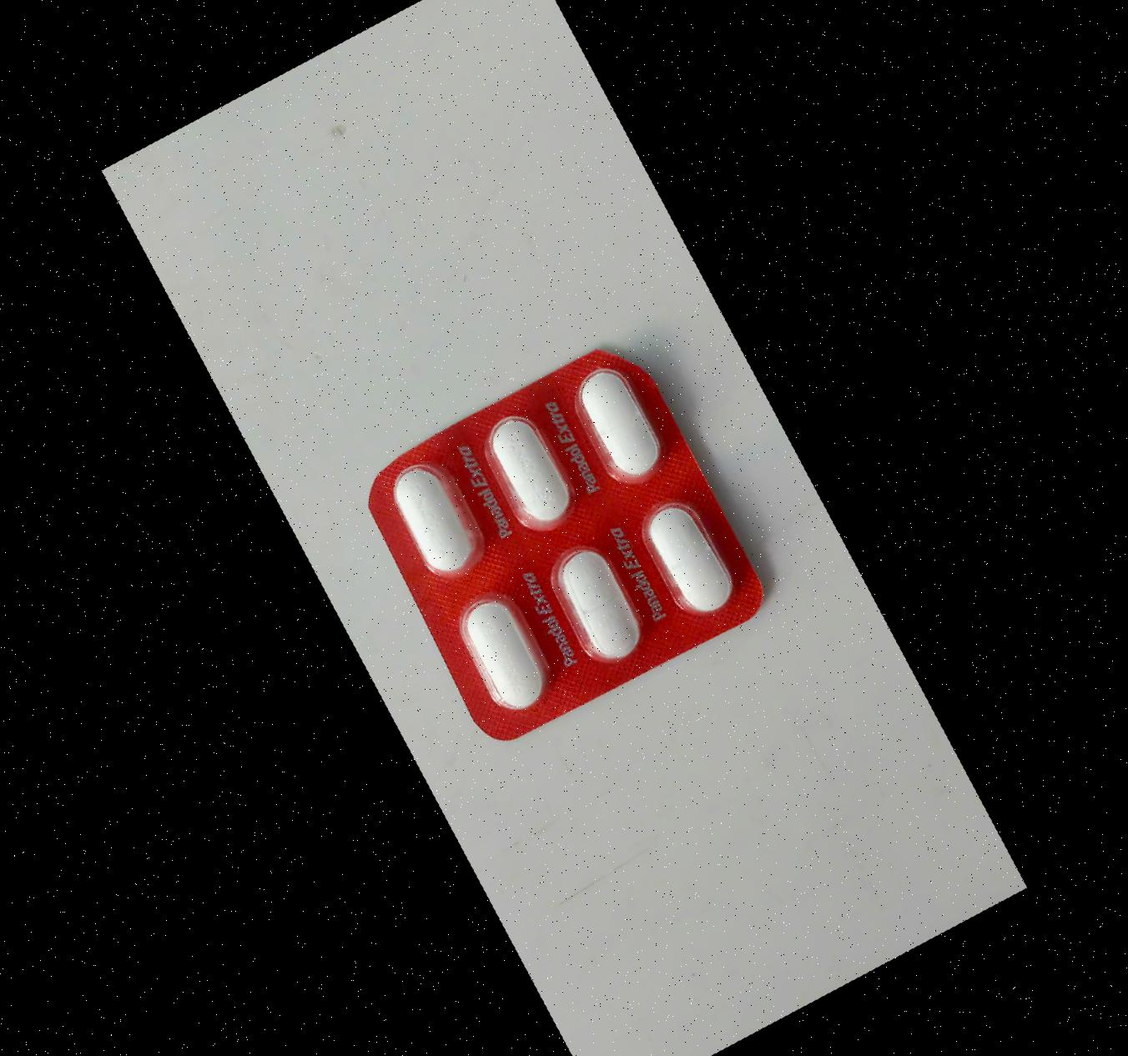Full: (625, 486, 752, 632), (441, 581, 568, 727), (552, 350, 679, 496), (535, 532, 662, 677), (465, 399, 592, 544), (370, 445, 497, 590)
